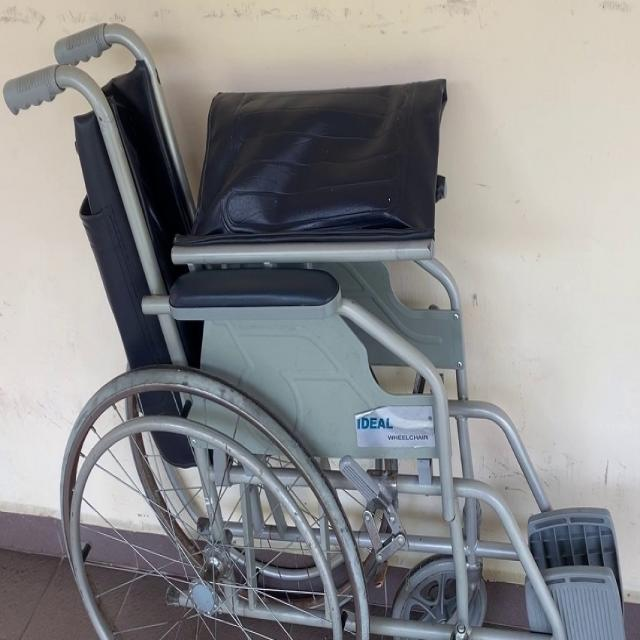wheelchair: (3, 23, 640, 640)
